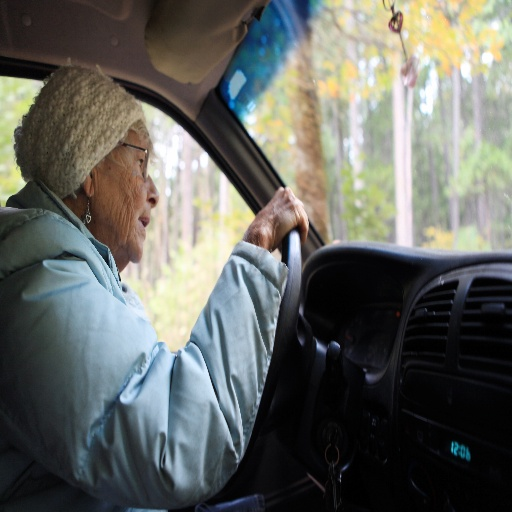hand: (250, 182, 310, 248)
